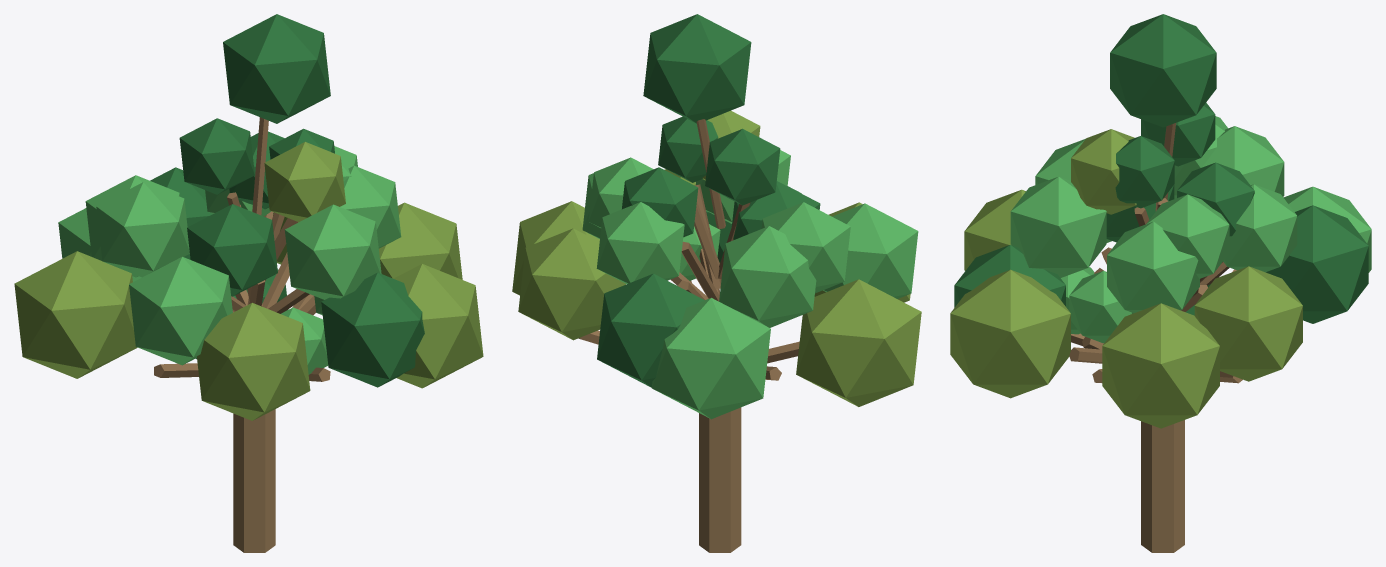
The model's file is Tree_19.glb.
3 renders of one model, left to right at view 1: azimuth 30°, elevation 25°; view 2: azimuth 150°, elevation 25°; view 3: azimuth 270°, elevation 25°, orthographic. The views are drawn at different scales.
Parts seen in each view (by area): view 1: T19_Sphere_07, T19_Sphere_08, T19_Sphere_03, T19_Sphere_13, T19_Sphere_12, T19_Sphere_18, T19_Sphere_09, T19_Sphere_20, T19_Trunk, T19_Sphere_17, T19_Sphere_23, T19_Sphere_22 (+12 smaller); view 2: T19_Sphere_07, T19_Sphere_11, T19_Sphere_03, T19_Sphere_10, T19_Sphere_16, T19_Sphere_06, T19_Trunk, T19_Sphere_15, T19_Sphere_12, T19_Sphere_22, T19_Sphere_20, T19_Sphere_21 (+10 smaller); view 3: T19_Sphere_09, T19_Sphere_05, T19_Sphere_03, T19_Sphere_10, T19_Sphere_06, T19_Sphere_18, T19_Sphere_14, T19_Trunk, T19_Sphere_15, T19_Sphere_19, T19_Sphere_23, T19_Sphere_24 (+11 smaller).
Part boxes in pixels (left/top/right/bottom): T19_Sphere_07: left=14, top=251, right=137, bottom=378; T19_Sphere_08: left=197, top=302, right=310, bottom=420; T19_Sphere_03: left=223, top=14, right=330, bottom=123; T19_Sphere_13: left=321, top=272, right=424, bottom=387; T19_Sphere_12: left=129, top=256, right=232, bottom=365; T19_Sphere_18: left=284, top=204, right=381, bottom=299; T19_Sphere_09: left=394, top=263, right=483, bottom=388; T19_Sphere_20: left=96, top=182, right=189, bottom=277; T19_Trunk: left=233, top=409, right=275, bottom=552; T19_Sphere_17: left=187, top=204, right=277, bottom=296; T19_Sphere_23: left=264, top=141, right=345, bottom=222; T19_Sphere_22: left=179, top=118, right=254, bottom=194; T19_Sphere_07: left=796, top=279, right=921, bottom=406; T19_Sphere_11: left=651, top=297, right=770, bottom=419; T19_Sphere_03: left=643, top=14, right=751, bottom=123; T19_Sphere_10: left=518, top=228, right=625, bottom=340; T19_Sphere_16: left=719, top=226, right=816, bottom=327; T19_Sphere_06: left=597, top=273, right=704, bottom=387; T19_Trunk: left=699, top=407, right=741, bottom=552; T19_Sphere_15: left=596, top=202, right=684, bottom=283; T19_Sphere_12: left=823, top=203, right=918, bottom=298; T19_Sphere_22: left=705, top=128, right=780, bottom=205; T19_Sphere_20: left=761, top=202, right=850, bottom=293; T19_Sphere_21: left=622, top=167, right=698, bottom=237; T19_Sphere_09: left=950, top=269, right=1070, bottom=398; T19_Sphere_05: left=1102, top=303, right=1219, bottom=428; T19_Sphere_03: left=1110, top=14, right=1216, bottom=127; T19_Sphere_10: left=1194, top=266, right=1302, bottom=381; T19_Sphere_06: left=1266, top=205, right=1368, bottom=323; T19_Sphere_18: left=1010, top=176, right=1106, bottom=277; T19_Sphere_14: left=1107, top=221, right=1199, bottom=312; T19_Trunk: left=1141, top=420, right=1184, bottom=552; T19_Sphere_15: left=1223, top=184, right=1297, bottom=272; T19_Sphere_19: left=1146, top=194, right=1229, bottom=278; T19_Sphere_23: left=1071, top=129, right=1136, bottom=214; T19_Sphere_24: left=1115, top=136, right=1174, bottom=208.
Size of the model in its own units: 2.71 by 3.29 by 2.32.
